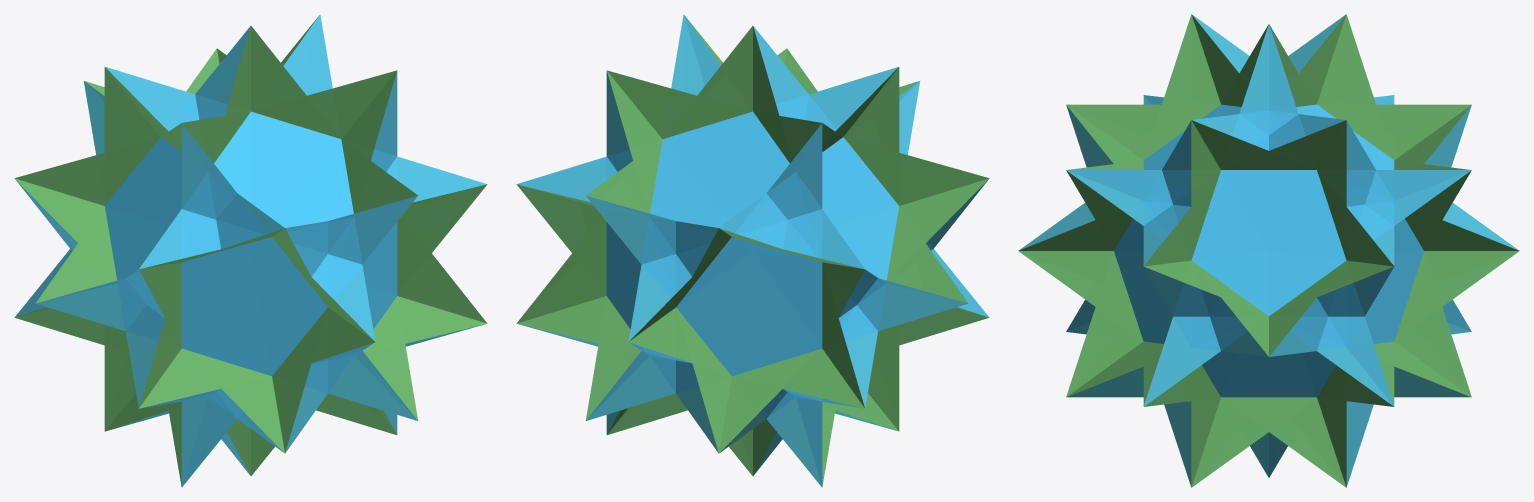
File: GreatDodecahemidodecahedron.obj
3 renders of one model, left to right at view 1: azimuth 30°, elevation 25°; view 2: azimuth 150°, elevation 25°; view 3: azimuth 270°, elevation 25°, orthographic.
Bounding box in the file's own units: 1.24 × 1.24 × 1.24.
